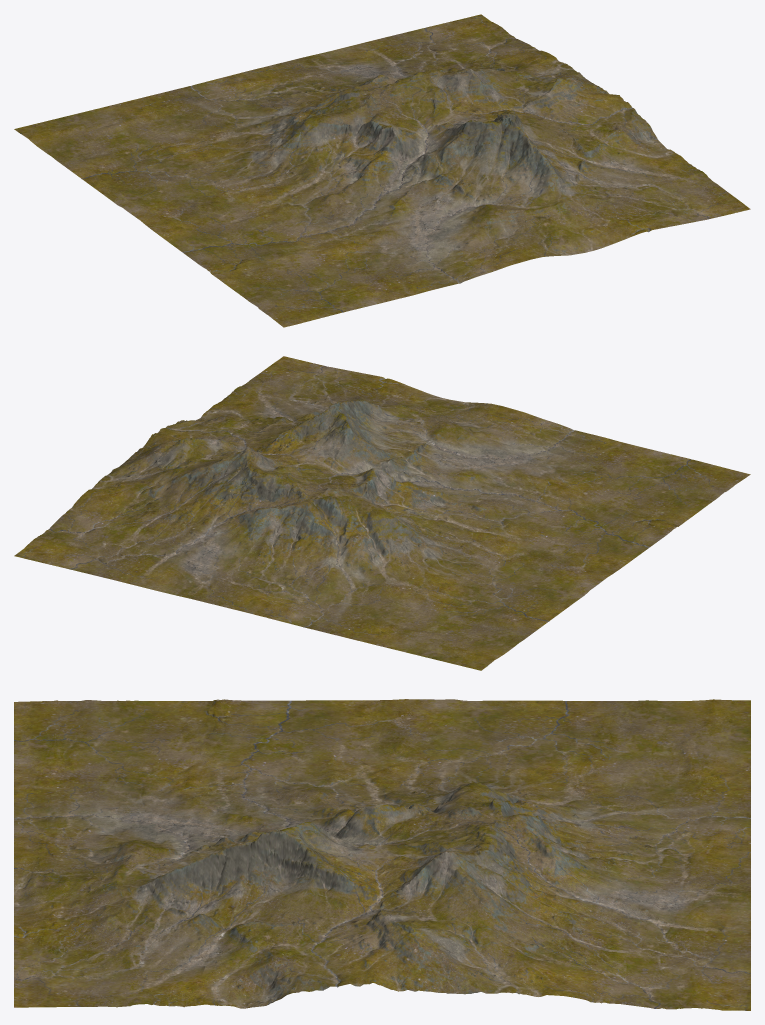
Rendered from mountain.glb.
The picture shows the model from 3 angles, top to bottom: view 1: azimuth 30°, elevation 25°; view 2: azimuth 150°, elevation 25°; view 3: azimuth 270°, elevation 25°; orthographic projection. The views are drawn at different scales.
Parts seen in each view (by area): view 1: Mesh_DefaultMaterial_0; view 2: Mesh_DefaultMaterial_0; view 3: Mesh_DefaultMaterial_0.
Boxes of the visible parts, box(x1,y1,x2,y2) form: Mesh_DefaultMaterial_0: box(14, 14, 750, 327); Mesh_DefaultMaterial_0: box(14, 356, 750, 670); Mesh_DefaultMaterial_0: box(14, 699, 750, 1010).
Size of the model in its own units: 49.99 by 6.4 by 49.99.
Materials: 1 (1 with a texture image).
